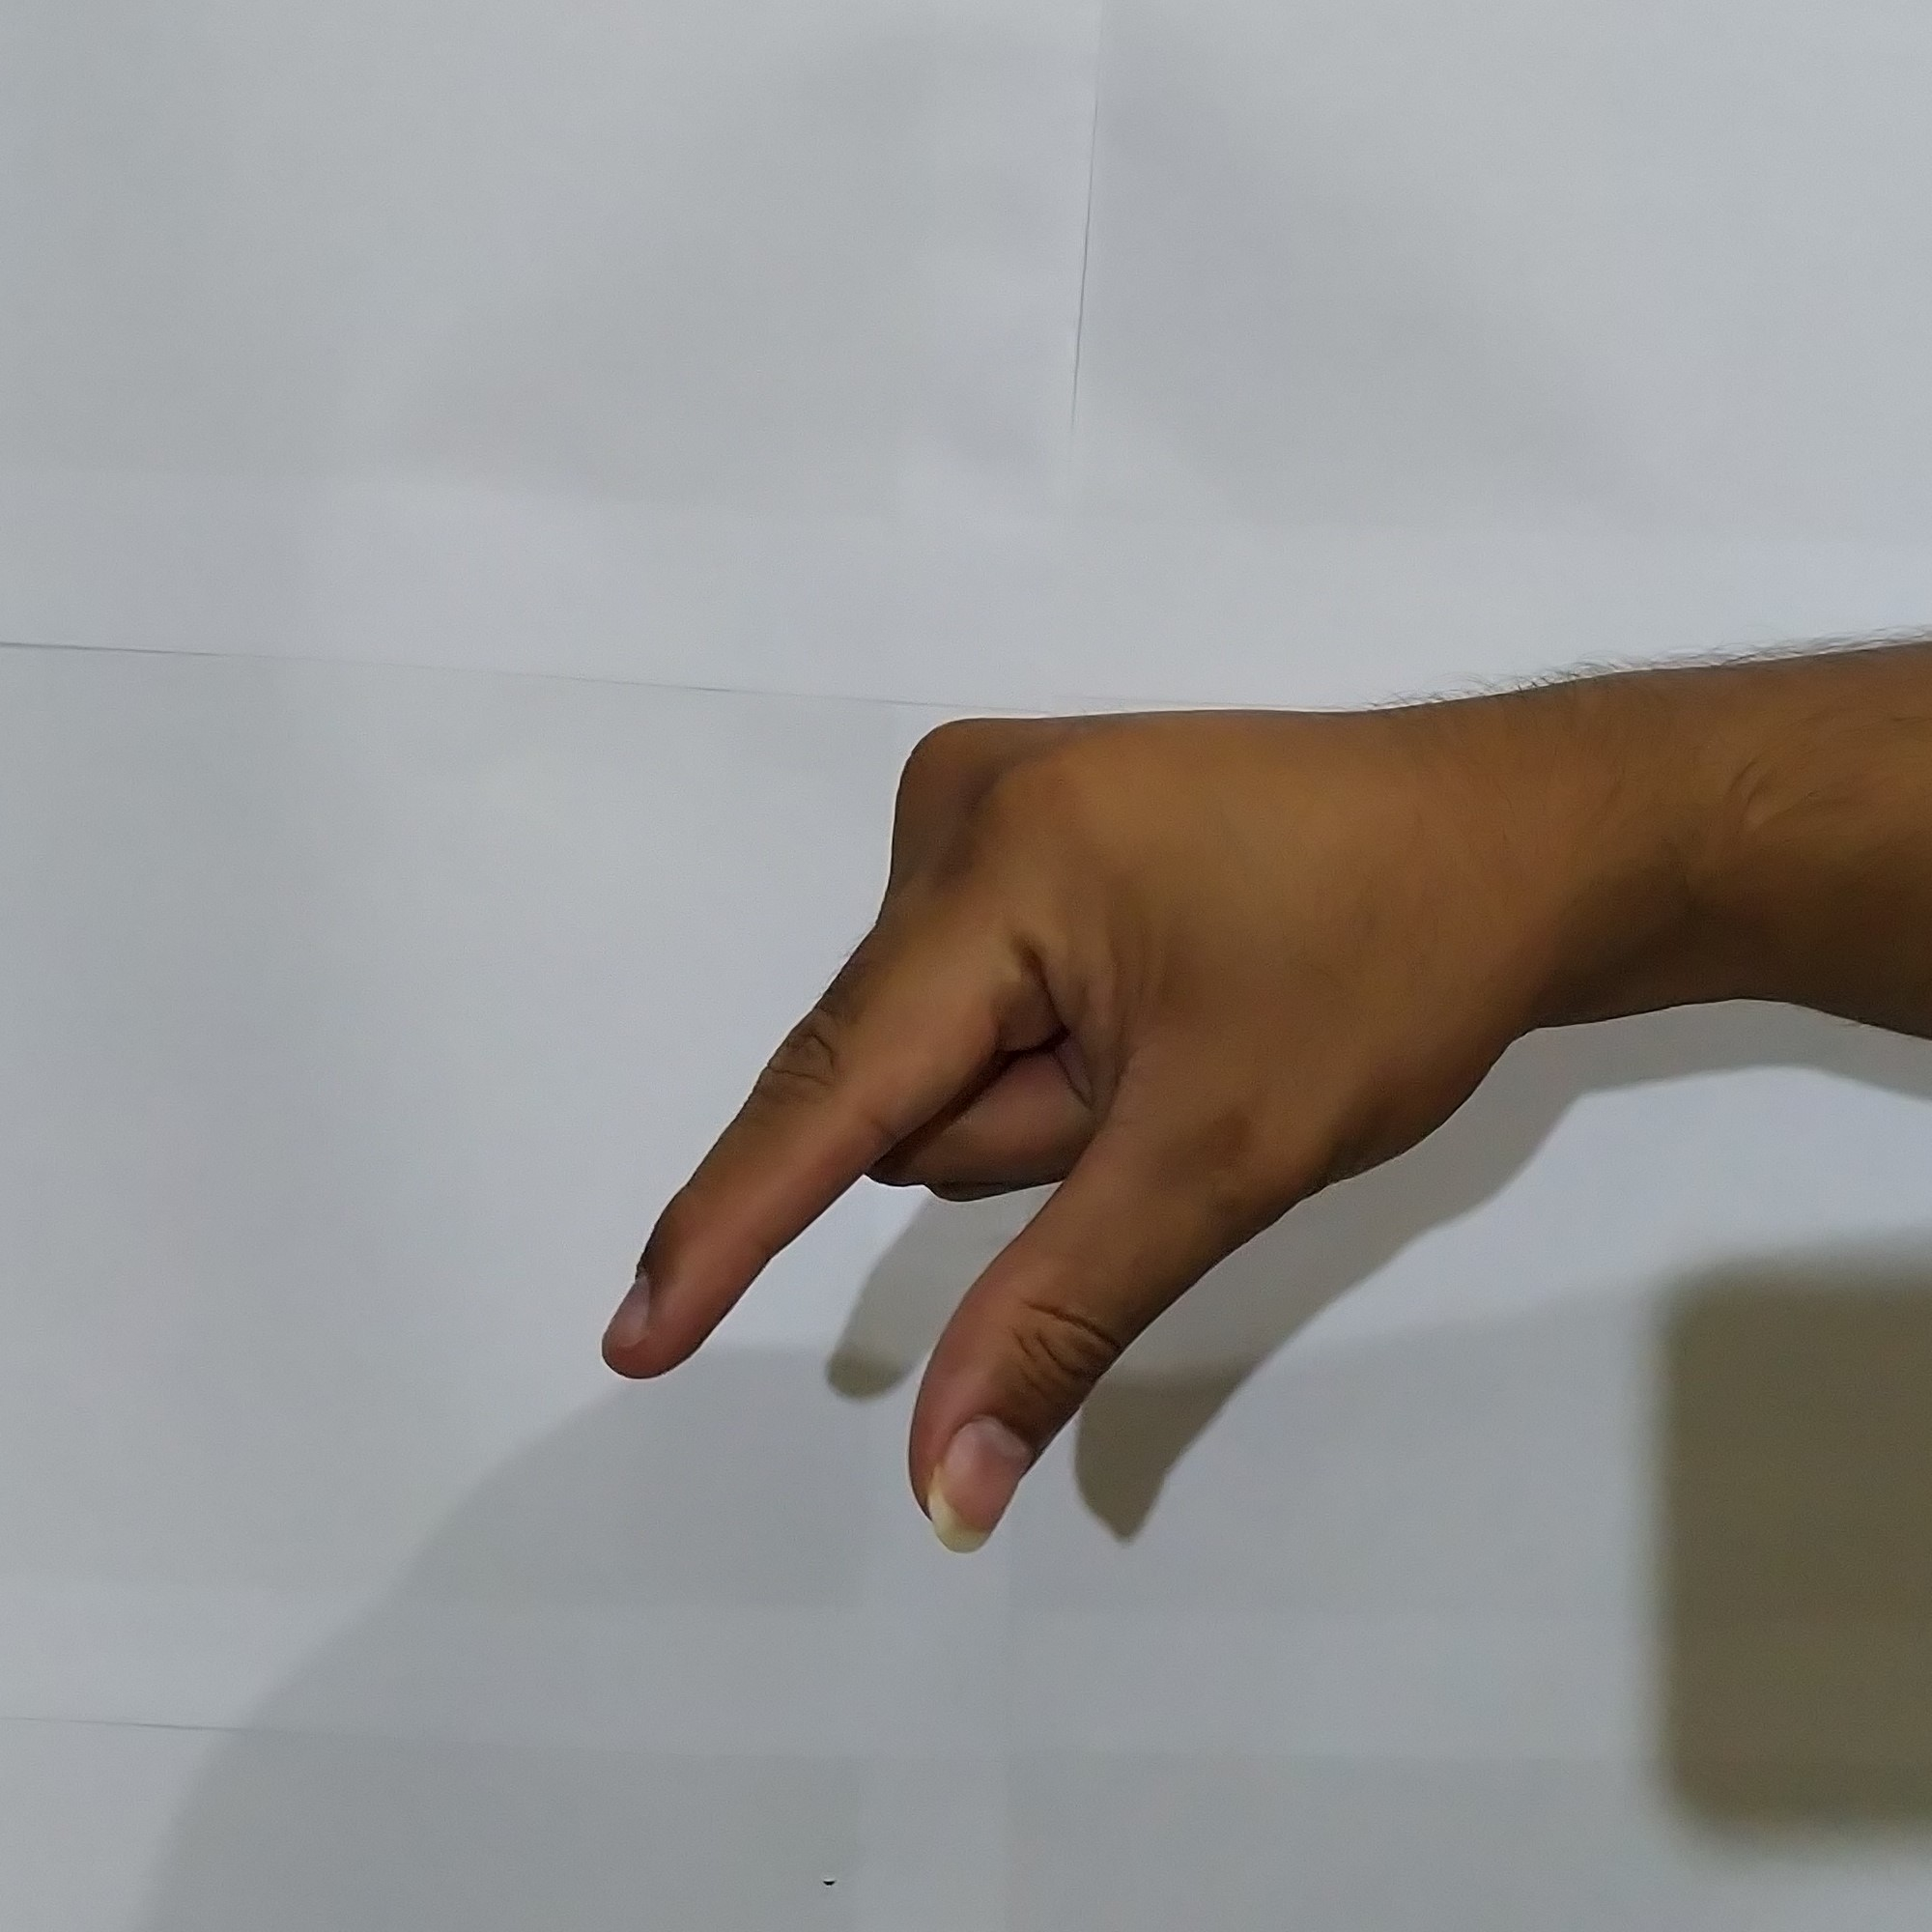Q: (557, 663, 1562, 1578)
